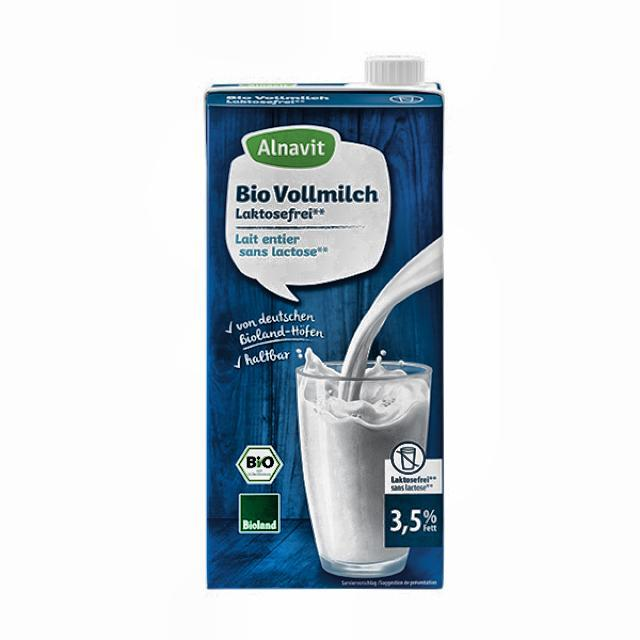cardboard: (204, 74, 445, 588)
